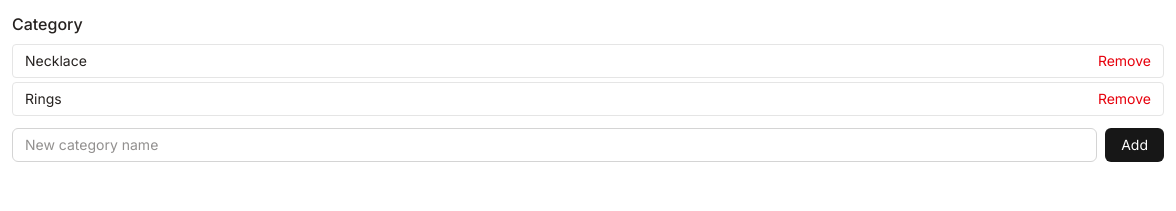
Test: CategoryManager › blocks adding a duplicate name (case-insensitive) and shows an error
Type "necklace" into the field with test id "new-item-name". click: point(555, 145)
box: [12,128,1097,162]
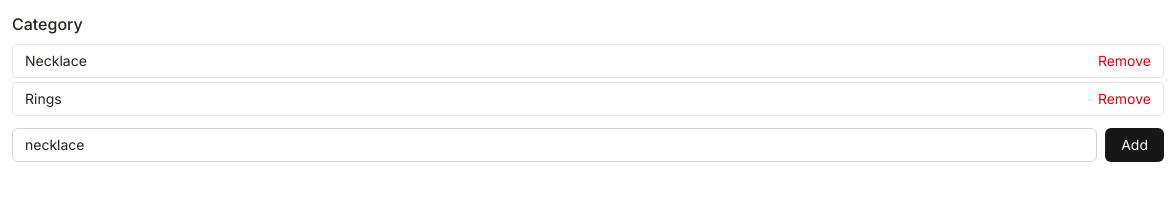
Click the button with test id "add-item". click: point(1135, 145)
box: [1105,128,1164,162]
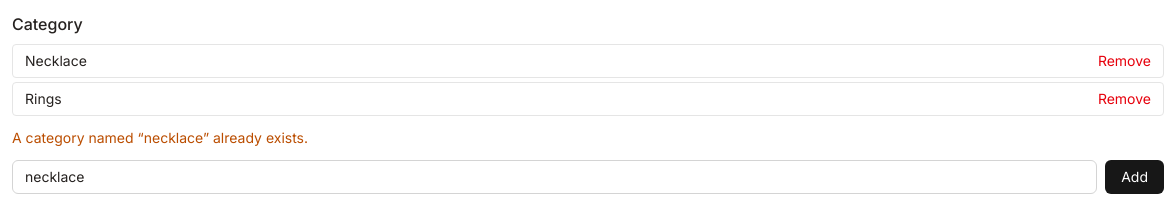
Check: the text with test id "duplicate-warning" shows "already exists", box [12,129,308,146]
